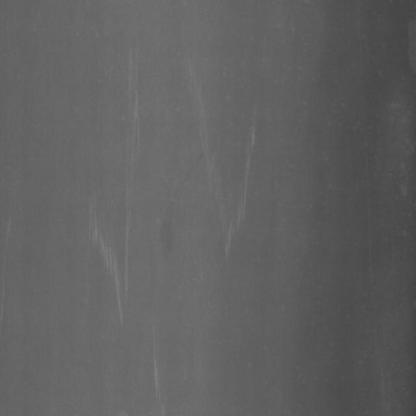silk_spot: (186, 99, 262, 262), (78, 187, 132, 336), (146, 320, 170, 409)
